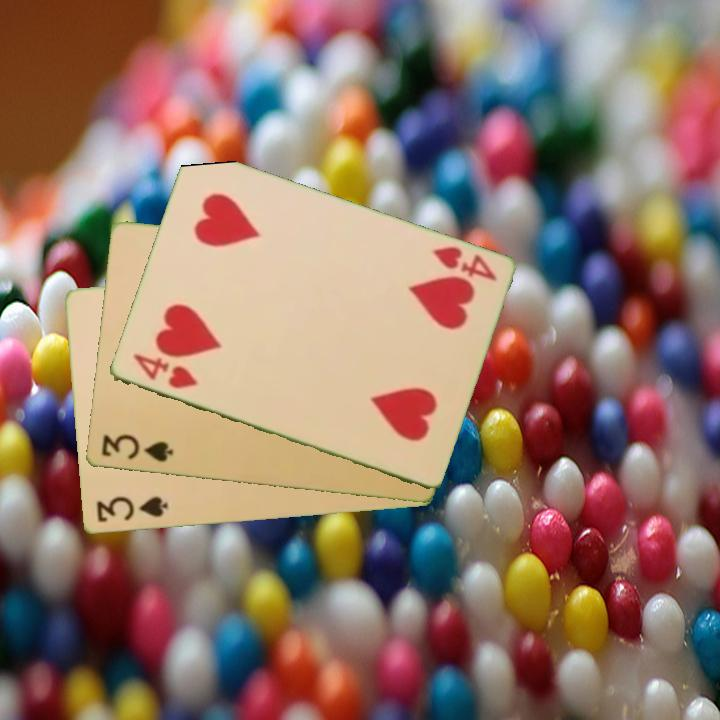3s: (97, 431, 176, 465), (92, 493, 171, 526)
4h: (129, 350, 200, 392), (429, 243, 500, 284)
